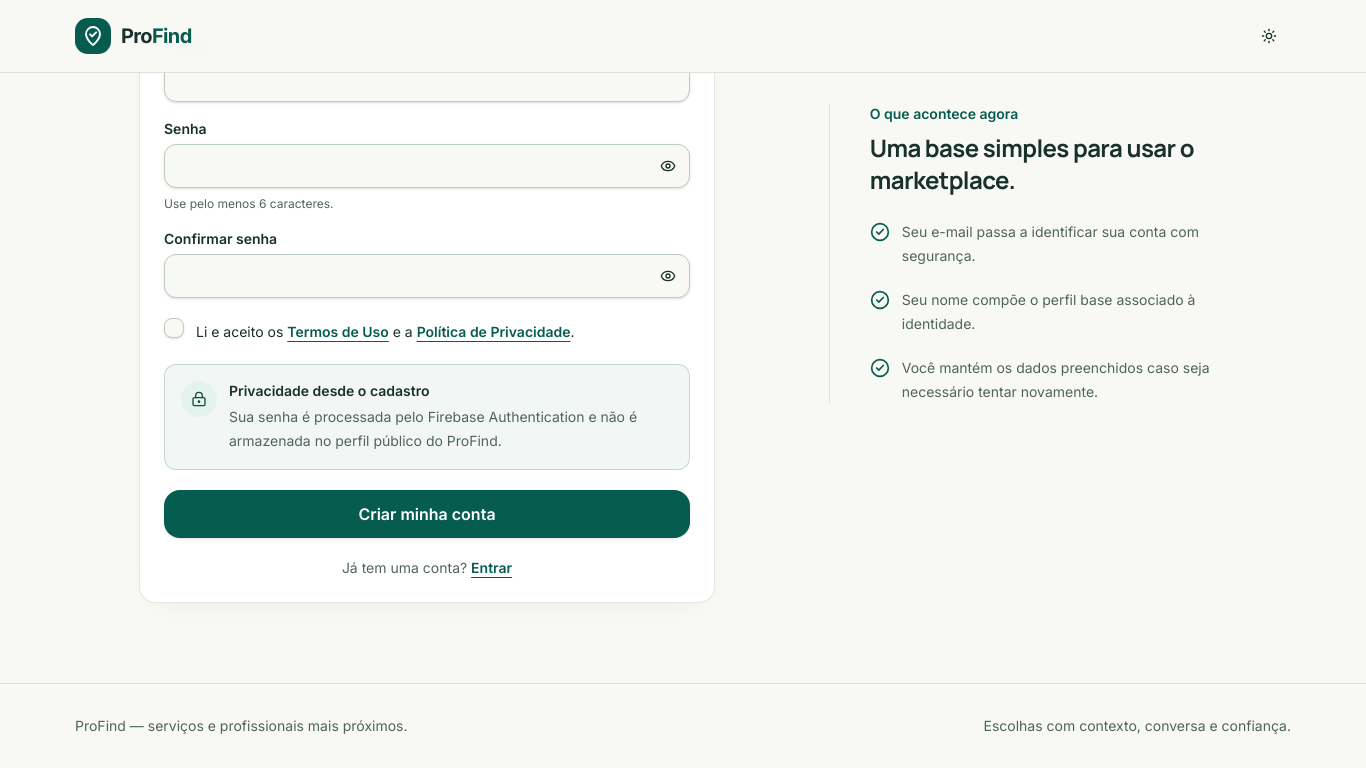
Test: RegistrationPage › associa mensagens acessíveis a todos os campos inválidos
(page scrolled)
Click the button "Criar minha conta". click: (427, 514)
box: 164,490 -> 690,538
(page scrolled)
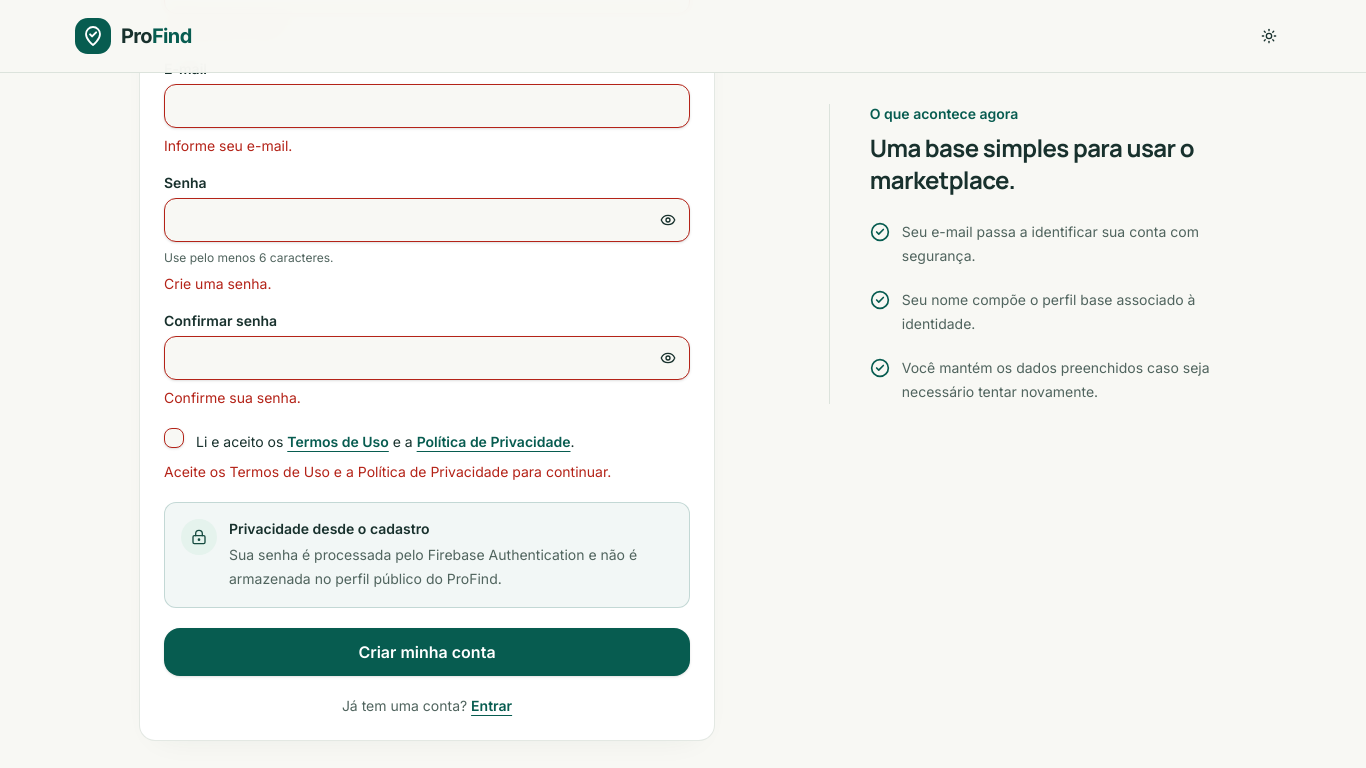
Check: the text "Informe seu e-mail." is shown, box 164,137 -> 292,154
Check: the text "Crie uma senha." is shown, box 164,275 -> 272,292
Check: the text "Confirme sua senha." is shown, box 164,389 -> 301,406
